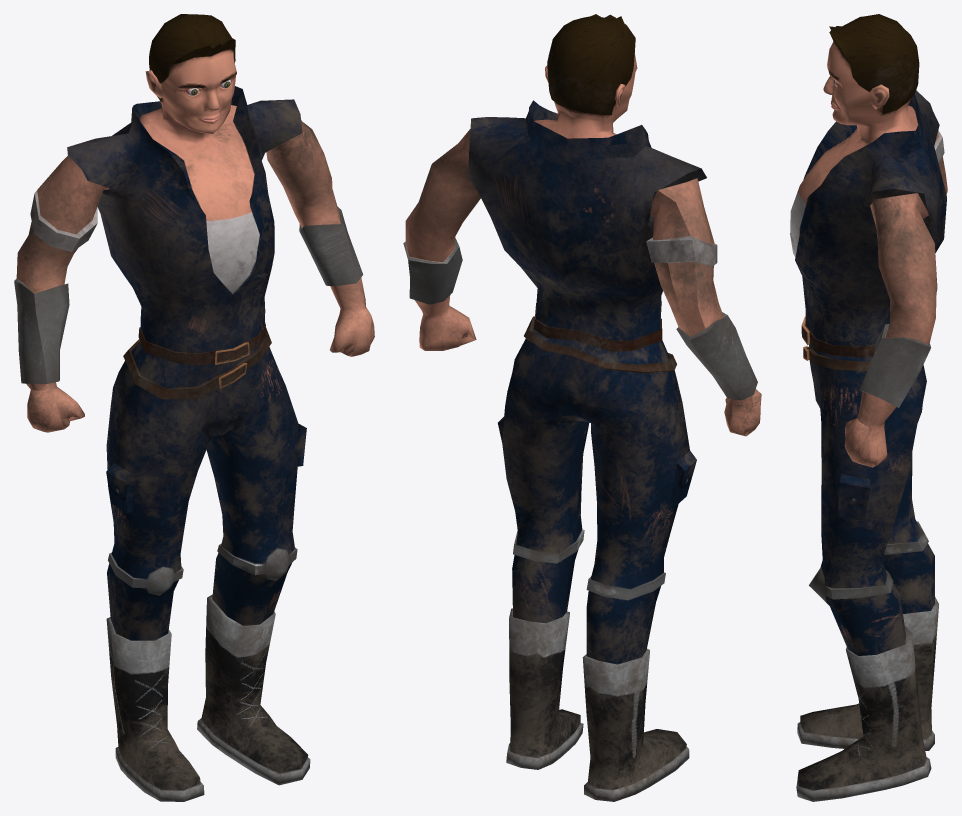
The model's file is Anim_puerta_mal_jugador.0017.obj.
3 views of the same model, side by side, from view 1: azimuth 30°, elevation 25°; view 2: azimuth 150°, elevation 25°; view 3: azimuth 270°, elevation 25° (orthographic).
Parts seen in each view (by area): view 1: polySurface1; view 2: polySurface1; view 3: polySurface1.
Boxes of the visible parts, x1,y1,x2,y2 form: polySurface1: [14, 14, 374, 801]; polySurface1: [403, 14, 761, 801]; polySurface1: [790, 14, 947, 801].
Bounding box in the file's own units: 4.59 × 9.67 × 1.86.
